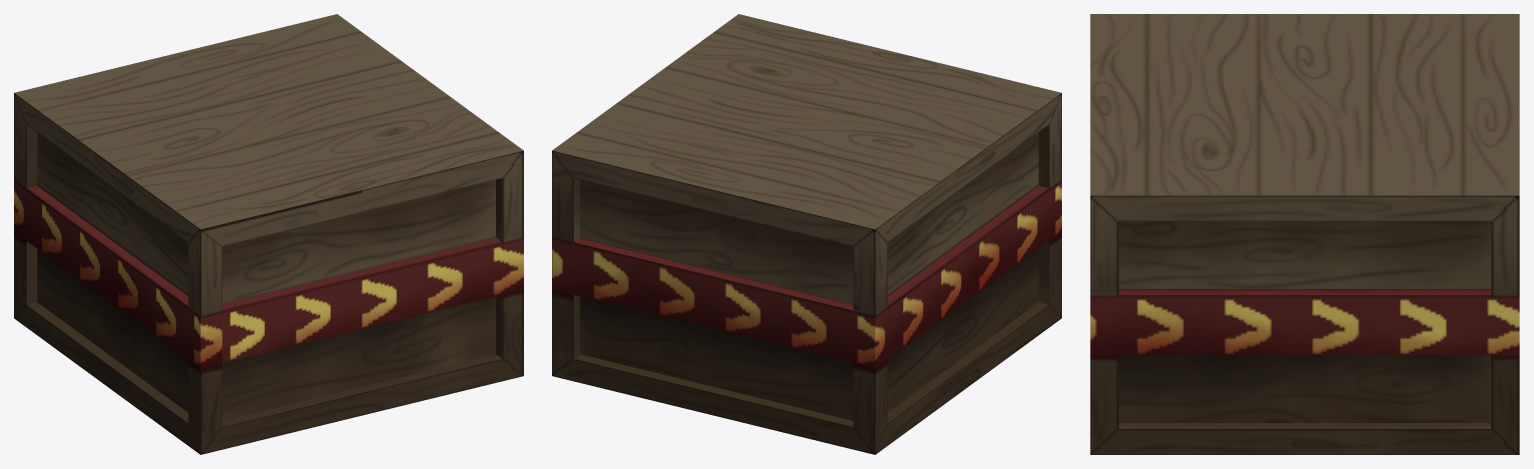
The model's file is crate.FBX.
3 views of the same model, side by side, from view 1: azimuth 30°, elevation 25°; view 2: azimuth 150°, elevation 25°; view 3: azimuth 270°, elevation 25° (orthographic). The views are drawn at different scales.
Visible parts, largest first — view 1: Box001; view 2: Box001; view 3: Box001.
Part boxes in pixels (x1,y1,x2,y2): Box001: (14,14,523,454); Box001: (552,14,1061,454); Box001: (1090,14,1519,454).
Size of the model in its own units: 30 by 20 by 30.
1 material, 1 textured.
